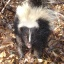skunk: (16, 1, 46, 53)
